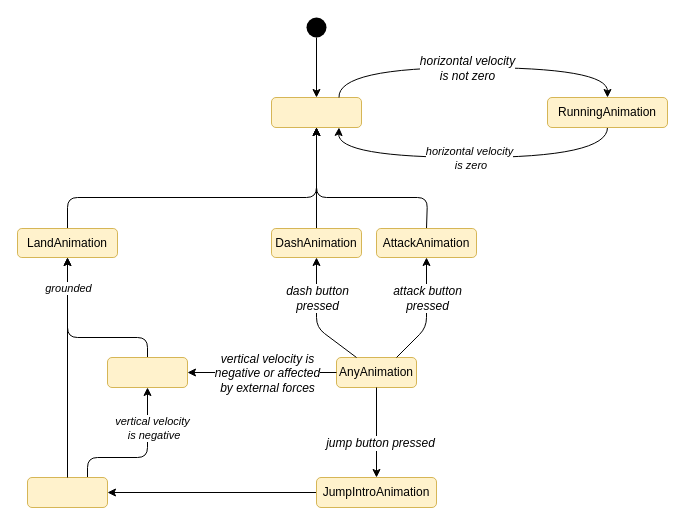
Some shapes in this 685 by 525 pixel diagram are drawn without their labels. The centre of each missing label's shape, as x and y in pixels:
"FallAnimation" belongs at pixel 147 372.
"IdleAnimation" belongs at pixel 316 112.
"JumpAnimation" belongs at pixel 67 492.
